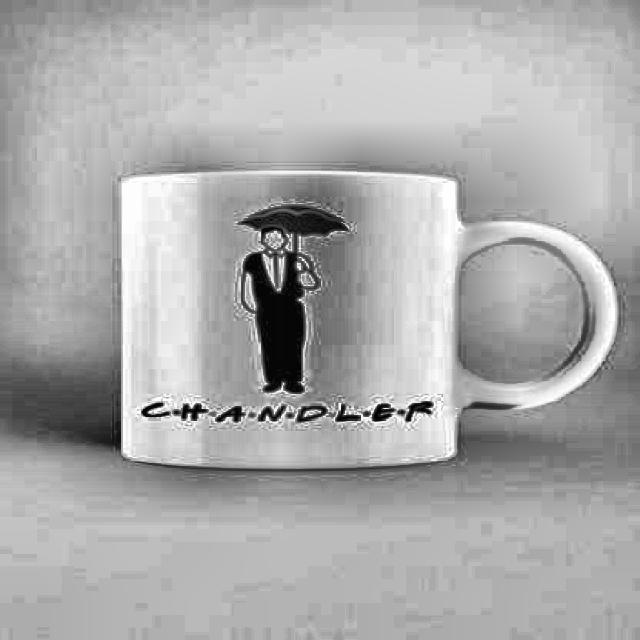Mug: (118, 171, 619, 474)
